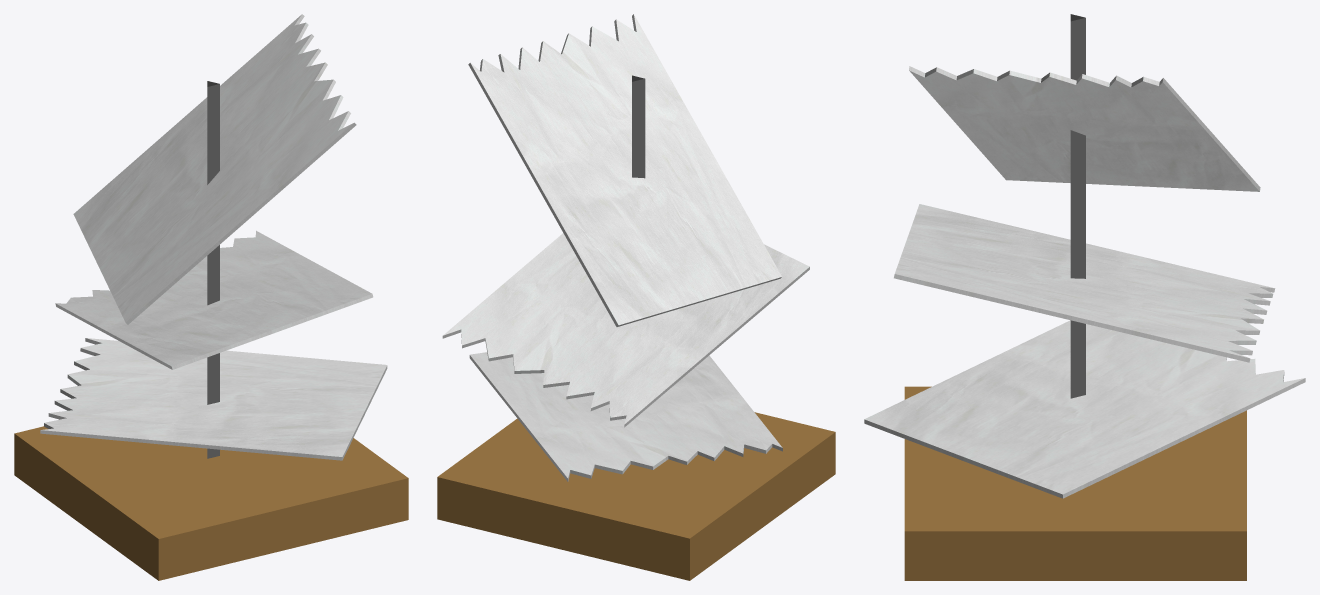
Rendered from чековая (2).fbx.
The picture shows the model from 3 angles, left to right: view 1: azimuth 30°, elevation 25°; view 2: azimuth 150°, elevation 25°; view 3: azimuth 270°, elevation 25°; orthographic projection. The views are drawn at different scales.
Visible parts, largest first — view 1: Plane.022; view 2: Plane.022; view 3: Plane.022.
Part boxes in pixels (x1,y1,x2,y2): Plane.022: [14, 14, 408, 580]; Plane.022: [437, 14, 835, 580]; Plane.022: [864, 14, 1305, 580].
Size of the model in its own units: 24.01 by 29.71 by 23.55.
Materials: 3 (1 with a texture image).
